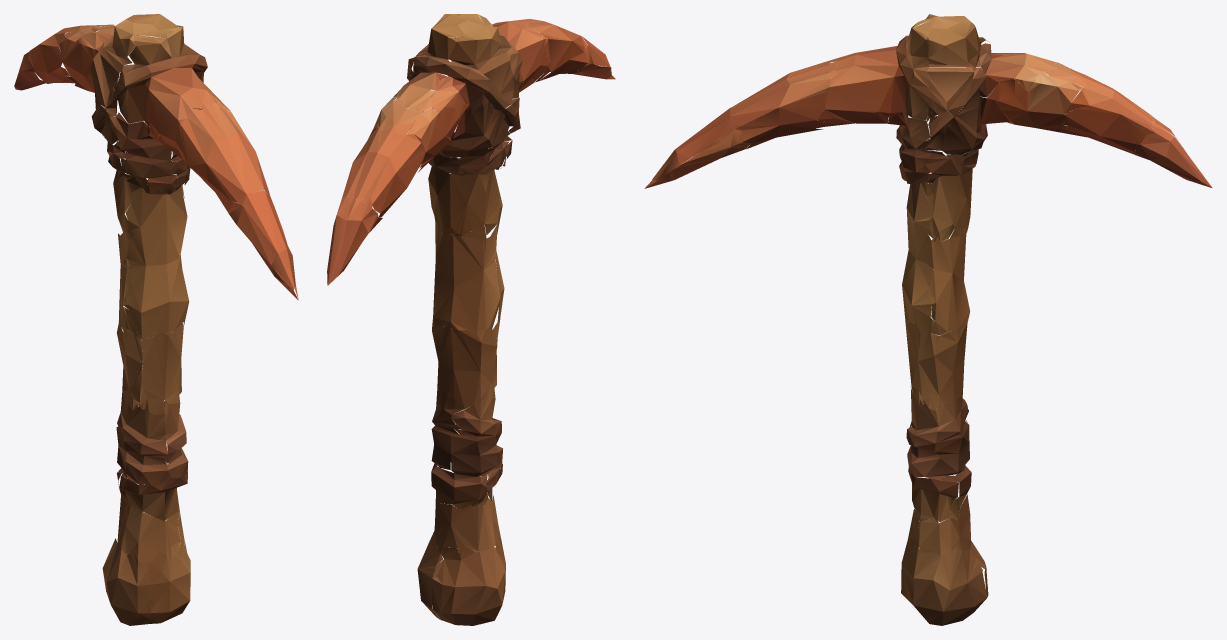
The model's file is copperPickaxe.glb.
3 views of the same model, side by side, from view 1: azimuth 30°, elevation 25°; view 2: azimuth 150°, elevation 25°; view 3: azimuth 270°, elevation 25° (orthographic).
Visible parts, largest first — view 1: 0_copperPickaxe; view 2: 0_copperPickaxe; view 3: 0_copperPickaxe.
Boxes of the visible parts, bbox=[...] form: 0_copperPickaxe: bbox=[14, 14, 298, 625]; 0_copperPickaxe: bbox=[327, 14, 615, 625]; 0_copperPickaxe: bbox=[644, 14, 1212, 625].
Size of the model in its own units: 0.0998 by 0.6002 by 0.5285.
